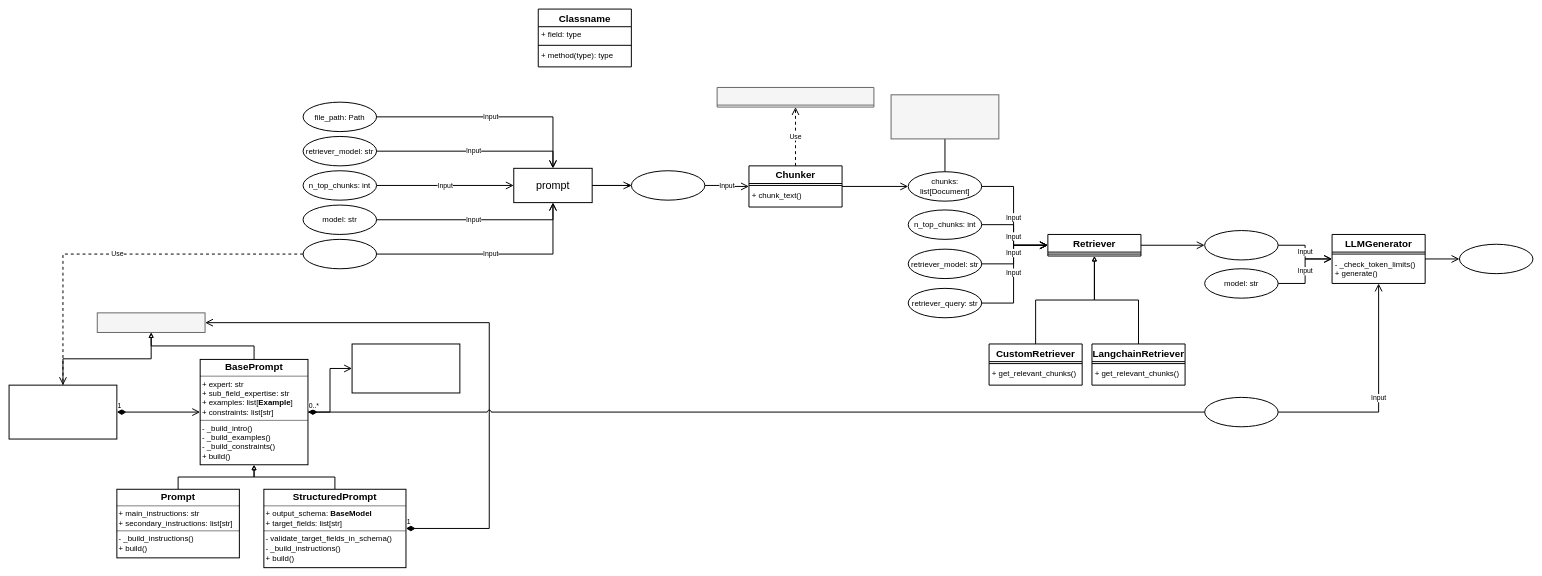
This 1542x576 diagram has some shape labels left out. The centre of each missing label's shape, as x and y in pixels:
answer: str: the point at 1496,259
BaseModel: the point at 151,322
built_prompt: str: the point at 1241,412
Document + page_content: str + metadata: dict ... ...: the point at 944,116
Example + input: str + output: str: the point at 405,368
PromptRegistryEntry + retriever_query: str + prompt: BasePrompt: the point at 62,411
query: str: the point at 339,254
RecursiveCharacterTextSplitter: the point at 795,97
relevant_text: str: the point at 1241,245
text: str: the point at 668,185
